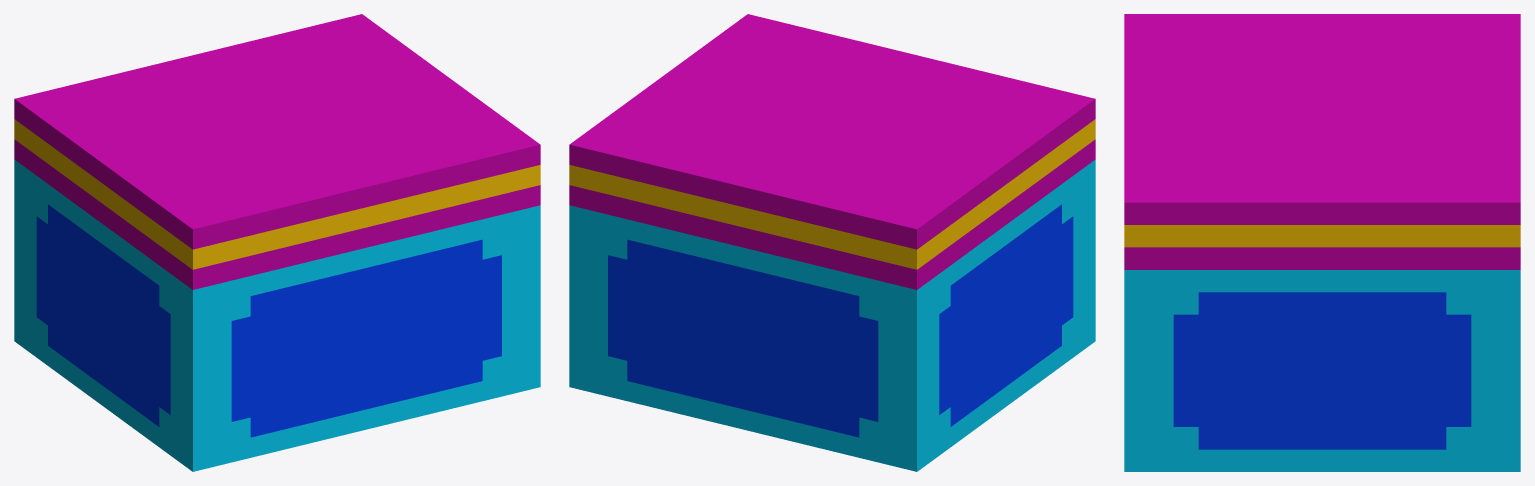
File: wall_1x1_4.obj
The picture shows the model from 3 angles, left to right: view 1: azimuth 30°, elevation 25°; view 2: azimuth 150°, elevation 25°; view 3: azimuth 270°, elevation 25°; orthographic projection. The views are drawn at different scales.
Size of the model in its own units: 1.8 by 1.2 by 1.6.
1 material, 1 textured.
